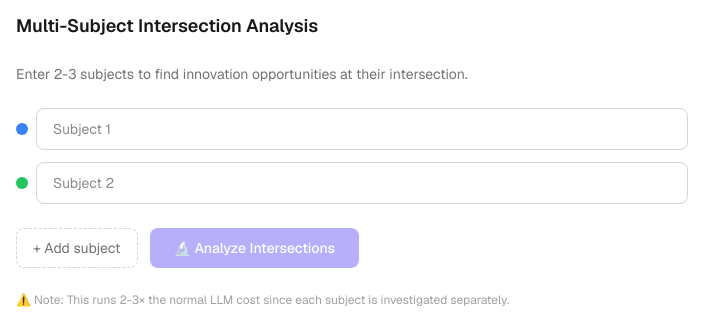
Test: IntersectionAnalysis › shows loading spinner during analysis
In the field with placeholder "Subject 1": (362, 129) x1=36 y1=108 x2=688 y2=150, type "AI"
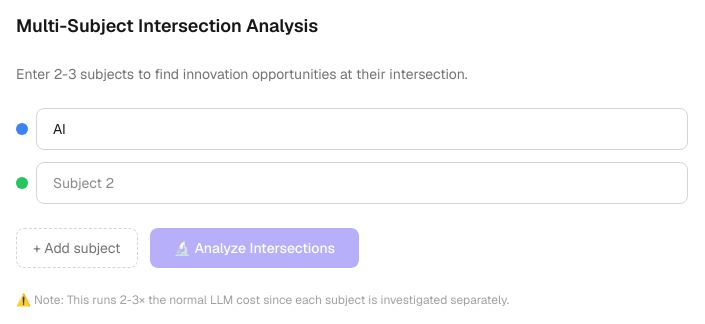
In the field with placeholder "Subject 2": (362, 183) x1=36 y1=162 x2=688 y2=204, type "Healthcare"
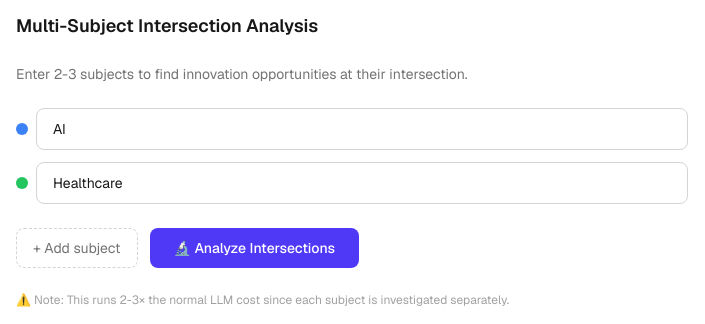
Click the button "🔬 Analyze Intersections": click(254, 248) x1=150 y1=228 x2=359 y2=268
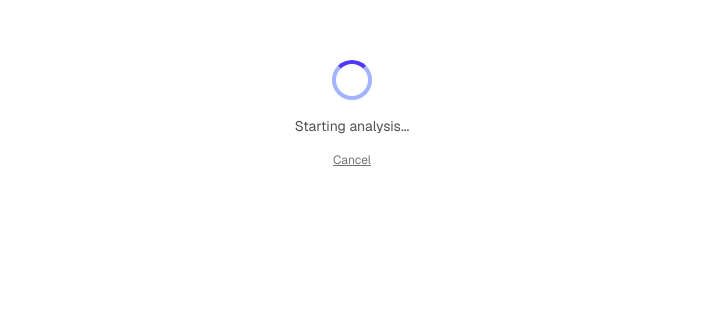
expect the button "Cancel" is shown: met, box x1=333 y1=152 x2=371 y2=168
